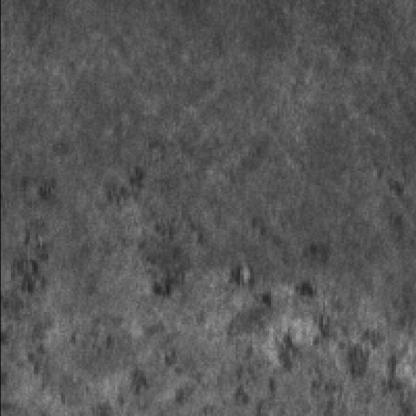rolled-in_scale: (148, 268, 408, 412), (98, 164, 189, 296), (0, 174, 56, 387)
